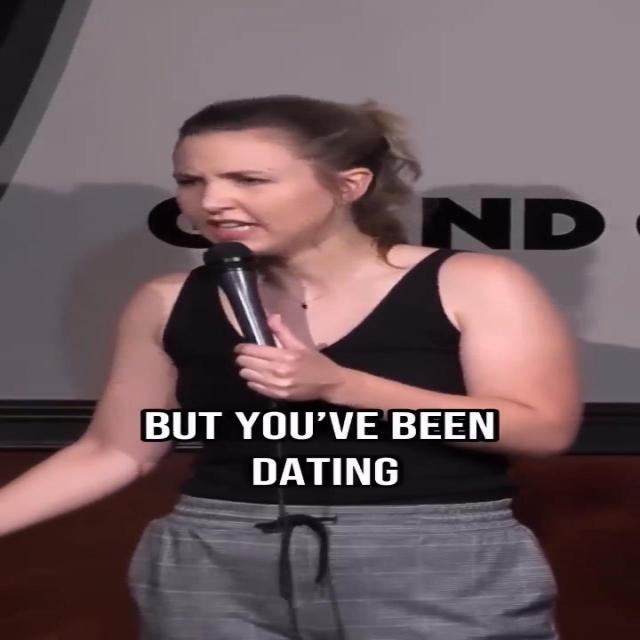NO-Mask: (164, 128, 360, 262)
